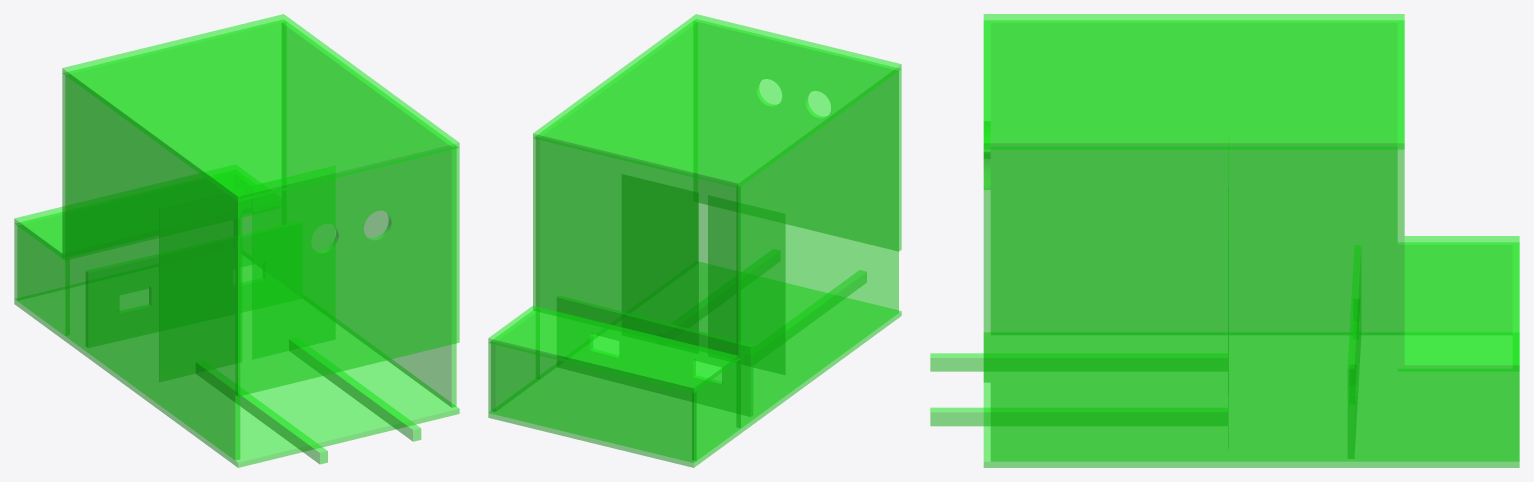
The model's file is tyson.glb.
3 views of the same model, side by side, from view 1: azimuth 30°, elevation 25°; view 2: azimuth 150°, elevation 25°; view 3: azimuth 270°, elevation 25° (orthographic). The views are drawn at different scales.
Parts seen in each view (by area): view 1: d9600e5d-f630-4691-845c-99ae4620d51c, 5ee4e24f-c759-4378-a8e2-af2310fb29d3, 2b42471b-7527-4182-9d30-37d6da784639; view 2: d9600e5d-f630-4691-845c-99ae4620d51c, 5ee4e24f-c759-4378-a8e2-af2310fb29d3, 2b42471b-7527-4182-9d30-37d6da784639; view 3: d9600e5d-f630-4691-845c-99ae4620d51c, 5ee4e24f-c759-4378-a8e2-af2310fb29d3, 2b42471b-7527-4182-9d30-37d6da784639.
Part boxes in pixels (box(x1,y1,x2,y2)): d9600e5d-f630-4691-845c-99ae4620d51c: box(14, 14, 459, 467); 5ee4e24f-c759-4378-a8e2-af2310fb29d3: box(235, 146, 459, 396); 2b42471b-7527-4182-9d30-37d6da784639: box(86, 232, 264, 347); d9600e5d-f630-4691-845c-99ae4620d51c: box(488, 14, 901, 467); 5ee4e24f-c759-4378-a8e2-af2310fb29d3: box(694, 19, 901, 251); 2b42471b-7527-4182-9d30-37d6da784639: box(557, 296, 752, 416); d9600e5d-f630-4691-845c-99ae4620d51c: box(930, 14, 1519, 467); 5ee4e24f-c759-4378-a8e2-af2310fb29d3: box(983, 20, 990, 382); 2b42471b-7527-4182-9d30-37d6da784639: box(1348, 245, 1360, 458).
Bounding box in the file's own units: 400 × 468 × 770.
